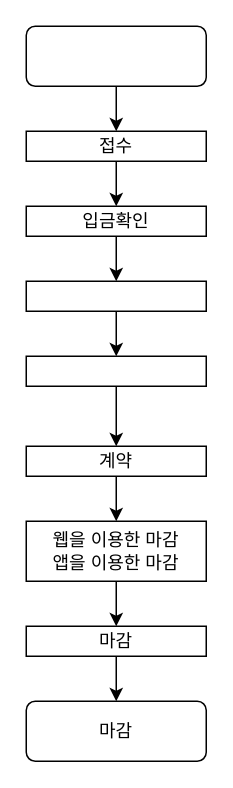
The diagram is 233 pixels wide and 788 high, and some of its shapes have lost their labels. Here are the shapes that lost their labels. From the top down, the box of each, then its label:
(25, 25, 206, 86): 예약시작
(25, 280, 206, 311): 예약
(25, 355, 206, 386): 수동배차 or 키오스크
